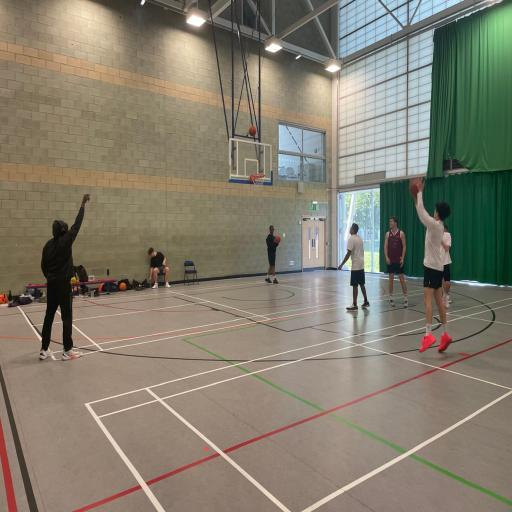hoops: (247, 171, 268, 194)
